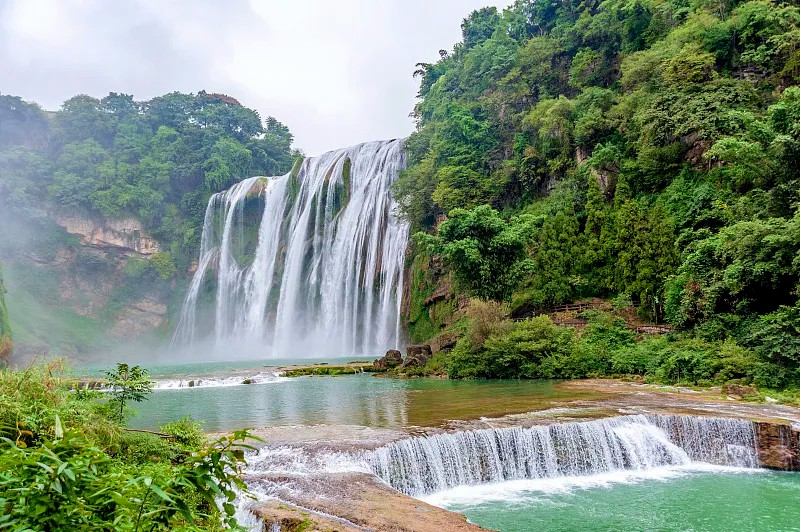Huangguoshu: (164, 139, 411, 359)
